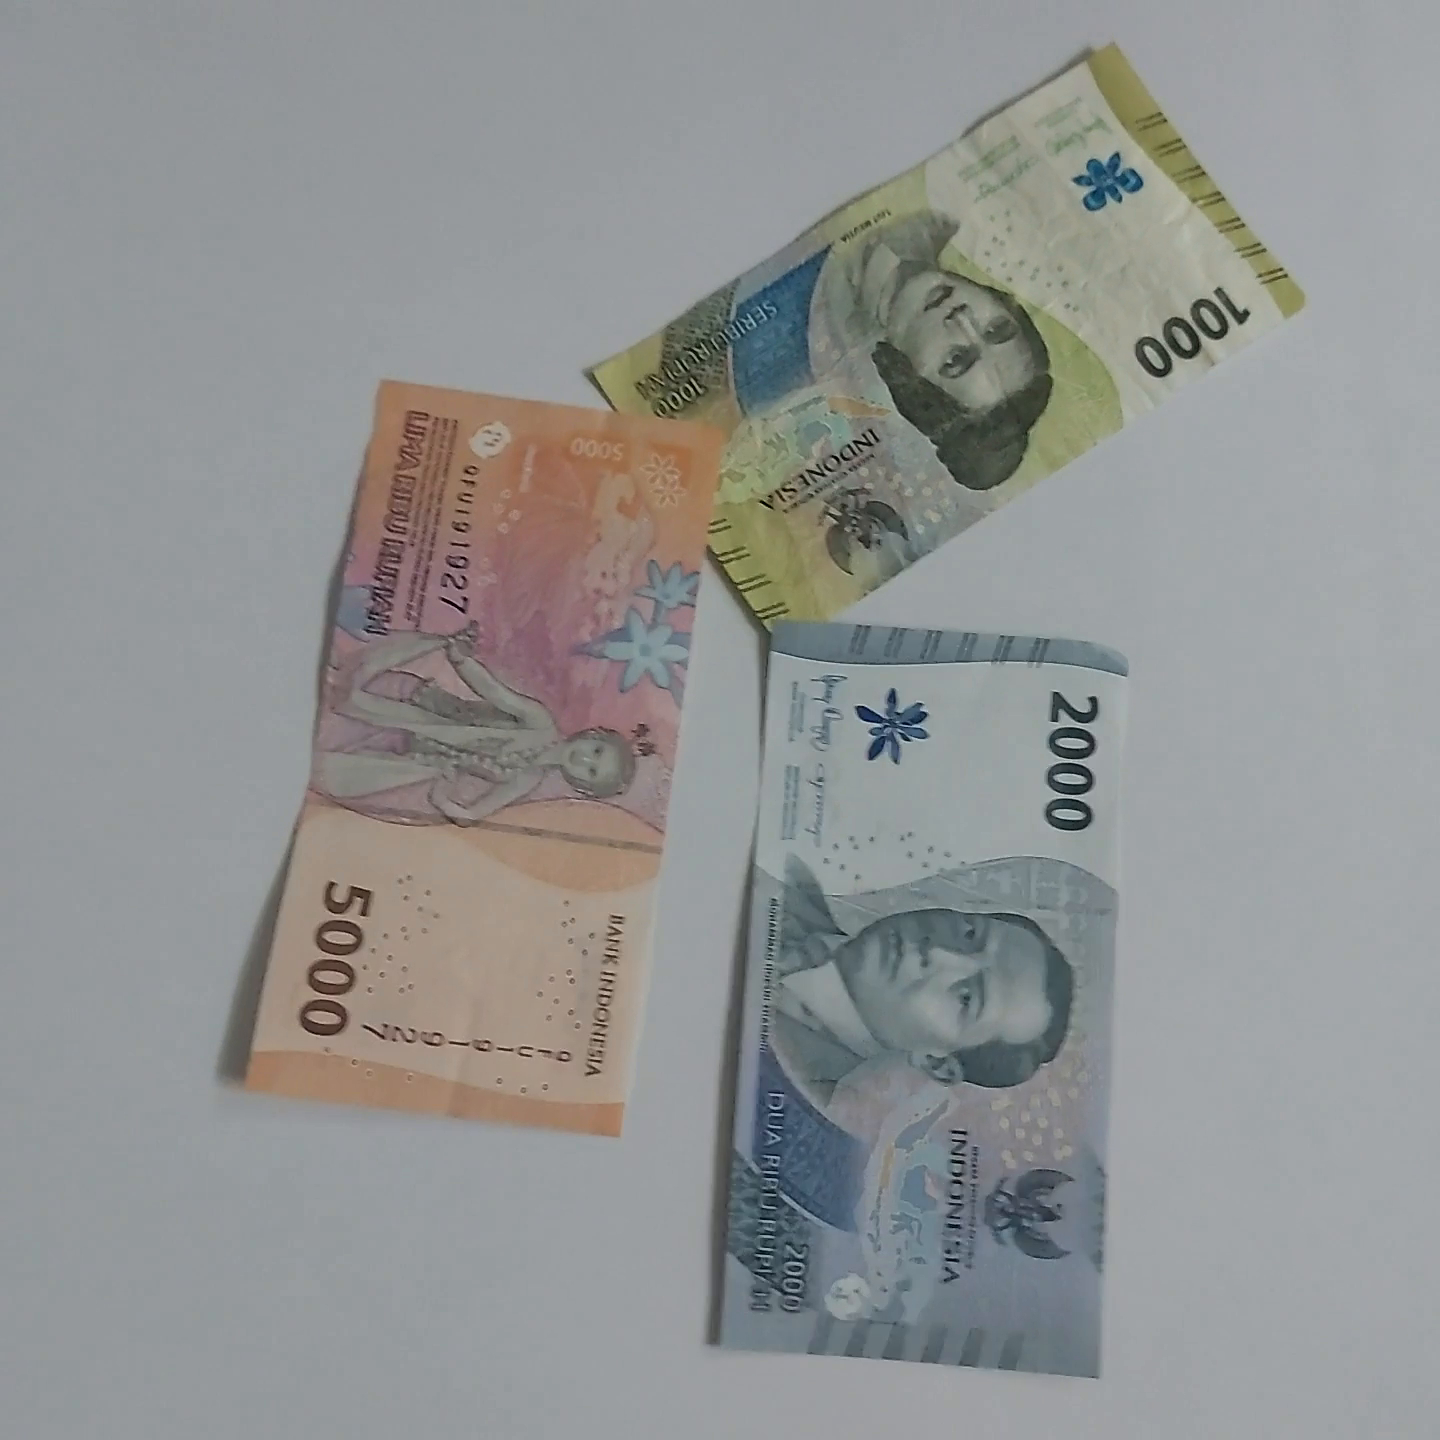1k: (605, 22, 1370, 666)
2k: (665, 574, 1199, 1406)
5k: (261, 326, 695, 1146)
